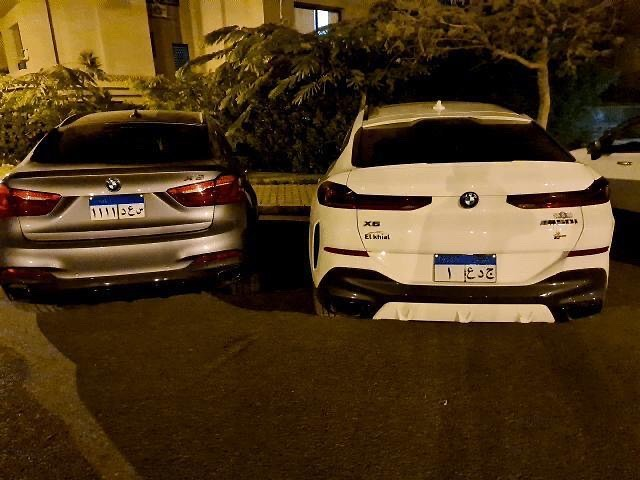carpl: (430, 249, 501, 291), (84, 194, 149, 219)
